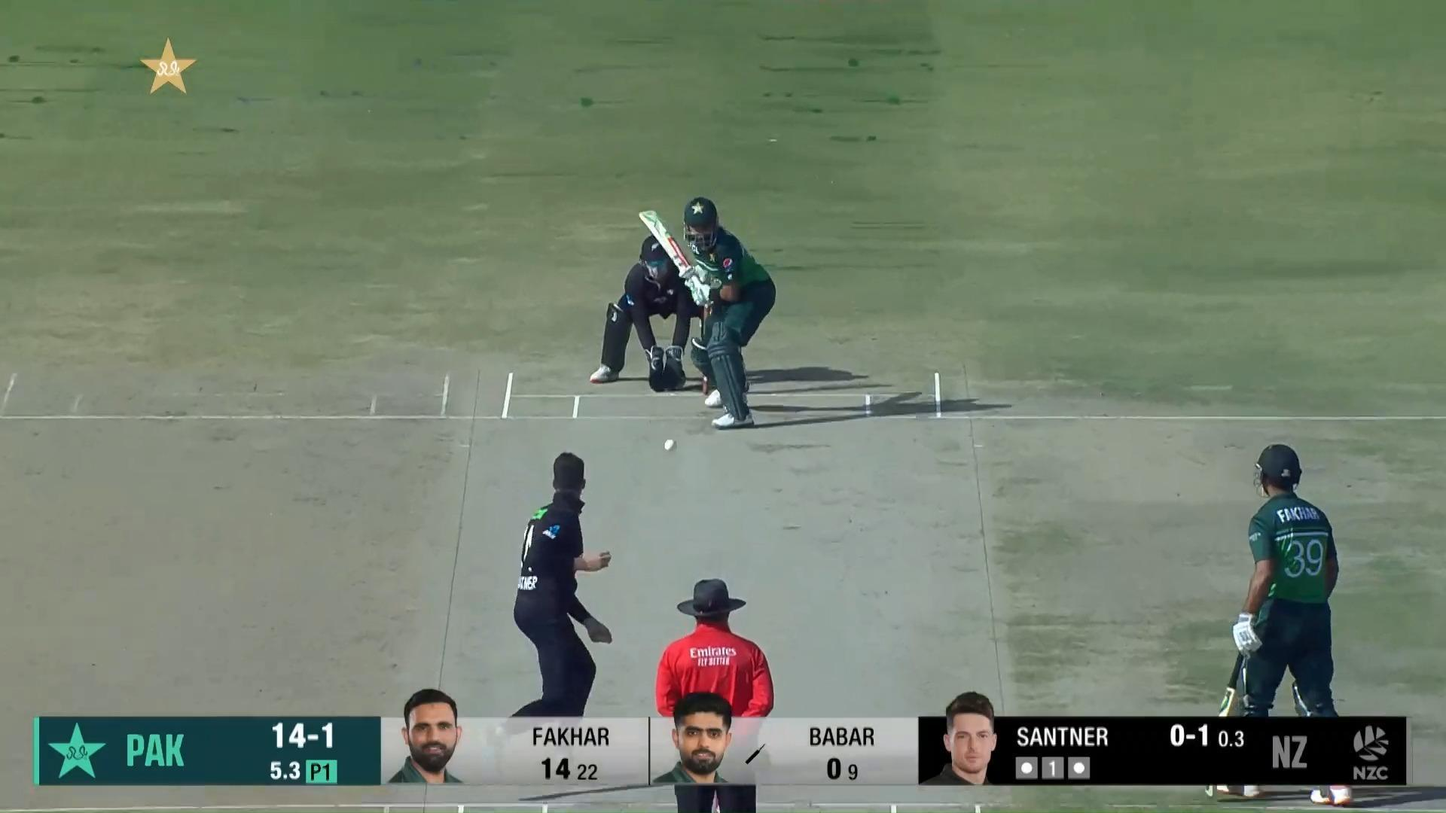BM 1: (639, 196, 776, 430)
BO: (484, 451, 613, 775)
